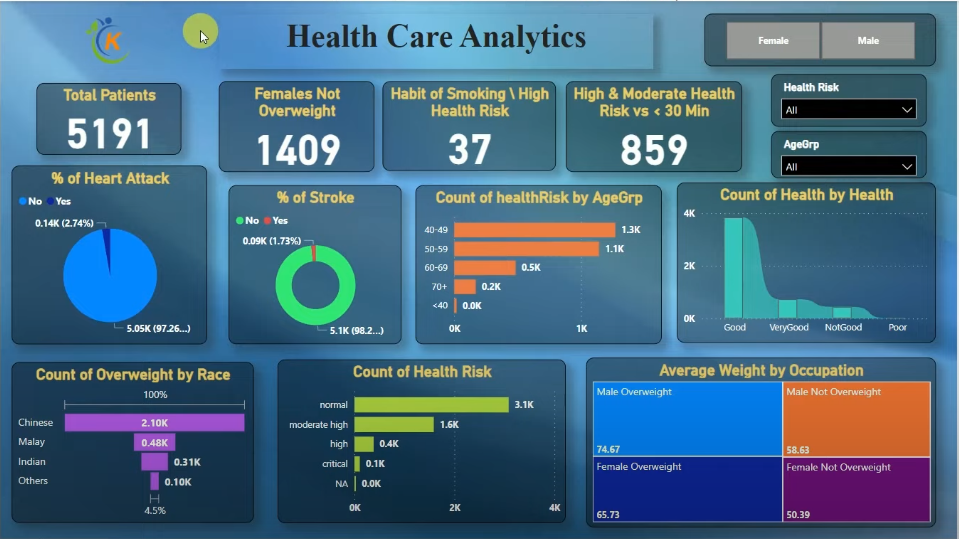

The dashboard page shown, as its layout file describes it:
{"tool":"powerbi","page":{"name":"Page 1","canvas":[1650,1050],"ordinal":0},"visuals":[{"type":"cardVisual","title":"Total Number of Pateint ","fields":{"Data":["CountNonNull(Sample_Data.Gender)"]},"box":[15.4,150,298.1,175],"z":0},{"type":"cardVisual","title":"Habit of Smoking High Health Risk","fields":{"Data":["CountNonNull(Sample_Data.Smoking)"]},"box":[600,150,294.2,175],"z":1000},{"type":"cardVisual","title":"High & Moderate Health Risk  Vs < 30","fields":{"Data":["CountNonNull(Sample_Data.healthRisk)"]},"box":[907.7,150,305.8,175],"z":2000},{"type":"cardVisual","title":"Females Not Overweight","fields":{"Data":["CountNonNull(Sample_Data.Overweight)"]},"box":[328.8,150,257.7,175],"z":3000},{"type":"pieChart","title":"% of Heart Atteck","fields":{"Y":["CountNonNull(Sample_Data.HeartAttack)"],"Category":["Sample_Data.HeartAttack"]},"box":[14.5,332.7,396.4,312.7],"z":4000},{"type":"donutChart","title":"% of Strock","fields":{"Category":["Sample_Data.Stroke"],"Y":["CountNonNull(Sample_Data.Stroke)"]},"box":[420,334.5,358.2,310.9],"z":5000},{"type":"clusteredBarChart","title":"Count of healthRisk by Agegrp","fields":{"Category":["Sample_Data.AgeGrp"],"Y":["CountNonNull(Sample_Data.healthRisk)"]},"box":[789.1,332.7,425.5,312.7],"z":6000},{"type":"ribbonChart","title":"Count of Health by Health","fields":{"Category":["Sample_Data.Health"],"Y":["CountNonNull(Sample_Data.Health)"]},"box":[1222.9,332.9,402.9,312.9],"z":7000},{"type":"funnel","title":"Count of Overweight  by Race","fields":{"Y":["CountNonNull(Sample_Data.Overweight)"],"Category":["Sample_Data.Race"]},"box":[15.4,651.9,473.1,378.8],"z":8000},{"type":"clusteredBarChart","title":"Count of Health Risk","fields":{"Y":["CountNonNull(Sample_Data.healthRisk)"],"Category":["Sample_Data.healthRisk"]},"box":[494.2,651.9,515.4,378.8],"z":9000},{"type":"treemap","title":"Average Weight by Overweight","fields":{"Values":["Avg(Sample_Data.Weight)"],"Group":["Sample_Data.Overweight"]},"box":[1019.2,651.9,605.8,378.8],"z":10000},{"type":"slicer","title":"Health Risk ","fields":{"Values":["Sample_Data.healthRisk"]},"box":[1236.5,150,388.5,80.8],"z":11000},{"type":"slicer","title":"Age Group","fields":{"Values":["Sample_Data.AgeGrp"]},"box":[1236.5,238.5,388.5,86.5],"z":12000},{"type":"textbox","box":[257.1,8.2,753.1,134.7],"z":13000},{"type":"slicer","fields":{"Values":["Sample_Data.Gender"]},"box":[1016.3,6.1,608.2,134.7],"z":14000},{"type":"image","box":[35.6,7.8,196.7,122.2],"z":15000}]}

Visuals, with their boxes on the page's 1650x1050 design canvas (x1, y1, x2, y2). These are canvas units, not pixel positions in the 959x539 screenshot, which may show the page scaled, cropped or inside an application window:
"Total Number of Pateint " cardVisual: (15, 150, 314, 325)
"Habit of Smoking High Health Risk" cardVisual: (600, 150, 894, 325)
"High & Moderate Health Risk  Vs < 30" cardVisual: (908, 150, 1214, 325)
"Females Not Overweight" cardVisual: (329, 150, 586, 325)
"% of Heart Atteck" pieChart: (14, 333, 411, 645)
"% of Strock" donutChart: (420, 334, 778, 645)
"Count of healthRisk by Agegrp" clusteredBarChart: (789, 333, 1215, 645)
"Count of Health by Health" ribbonChart: (1223, 333, 1626, 646)
"Count of Overweight  by Race" funnel: (15, 652, 488, 1031)
"Count of Health Risk" clusteredBarChart: (494, 652, 1010, 1031)
"Average Weight by Overweight" treemap: (1019, 652, 1625, 1031)
"Health Risk " slicer: (1236, 150, 1625, 231)
"Age Group" slicer: (1236, 238, 1625, 325)
textbox: (257, 8, 1010, 143)
slicer - Sample_Data.Gender: (1016, 6, 1624, 141)
image: (36, 8, 232, 130)
